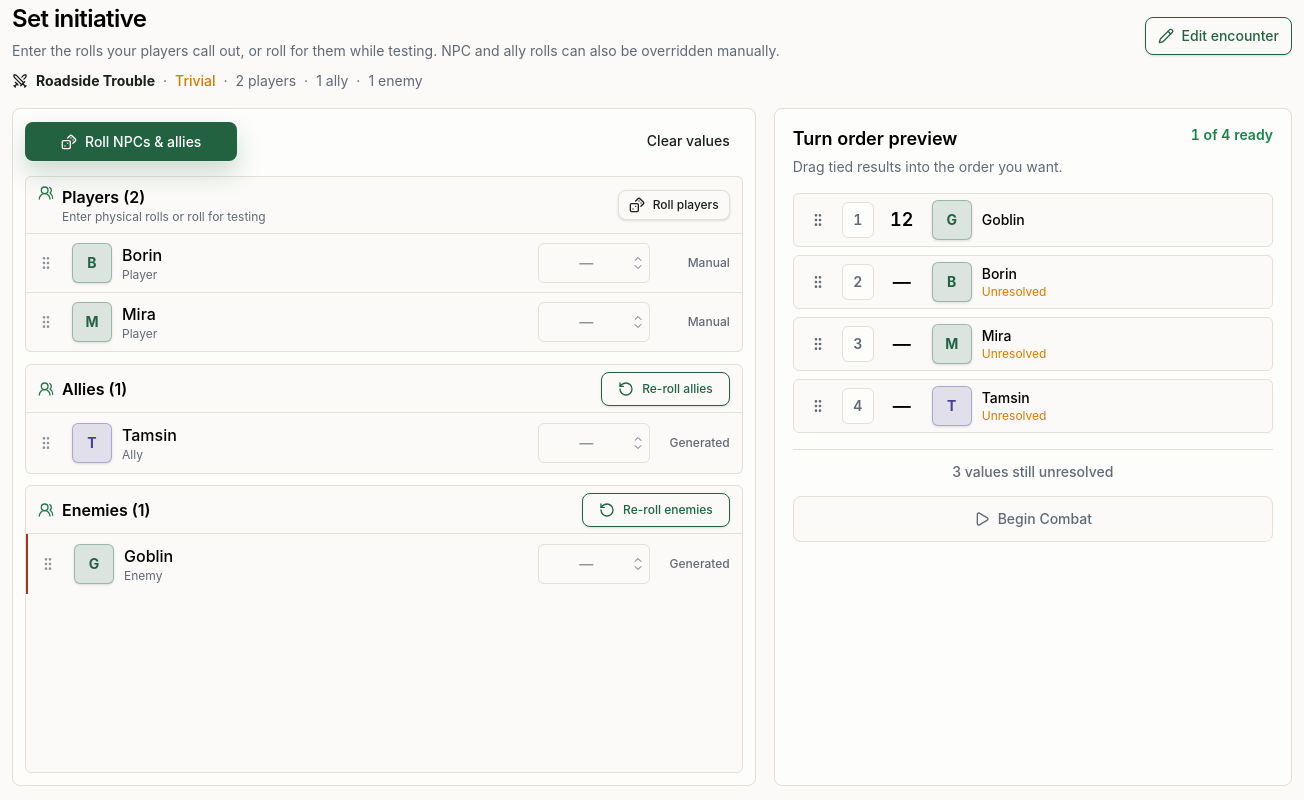
Scenario: EncounterInitiativePage › leaves empty input unresolved and disables begin until every value is ready
Clear the number field named "Borin initiative": (594, 263) [538,243,650,283]
Expected: the button "Begin Combat" is disabled, [793,496,1273,542]
Click the button "Roll NPCs & allies": click(131, 142) [25,122,237,161]
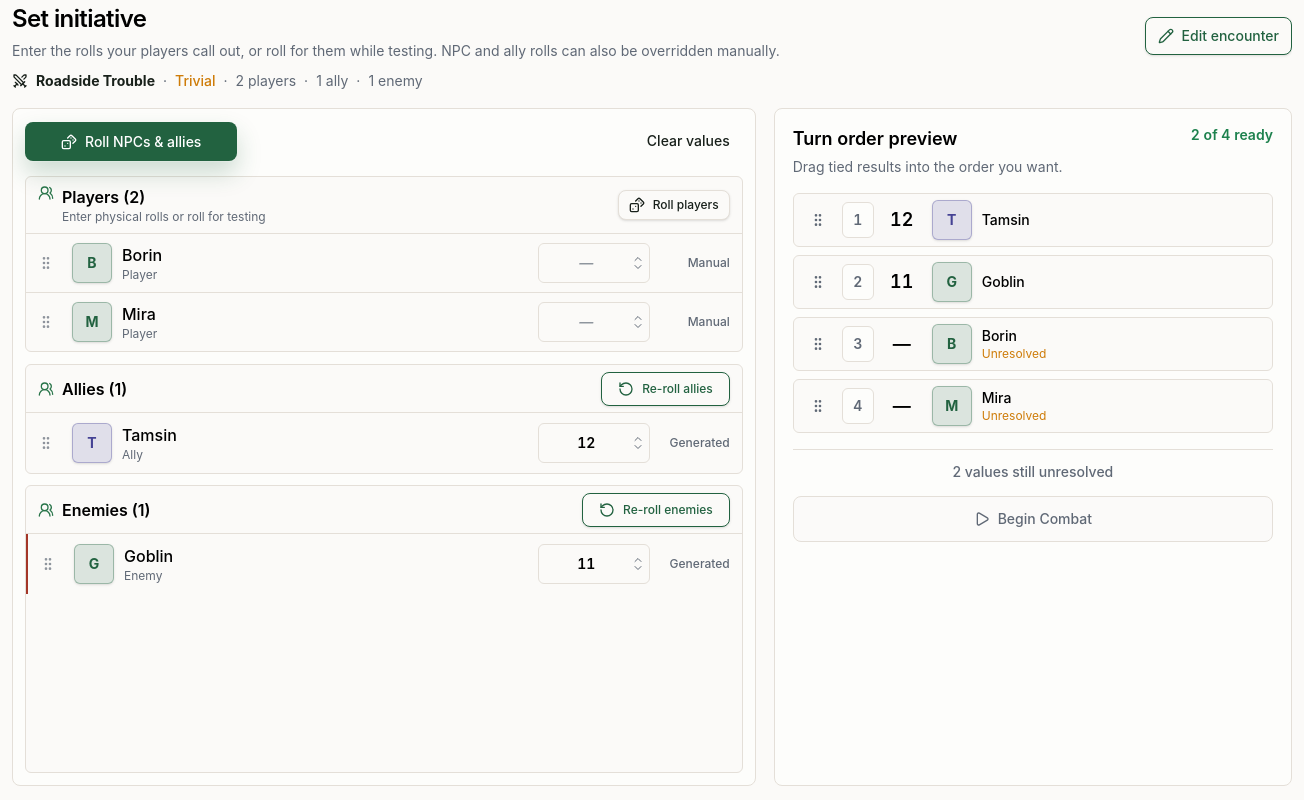
Now the number field named "Tamsin initiative" is not empty, box [538,423,650,463]
In the number field named "Borin initiative": (594, 263) [538,243,650,283], type "0"
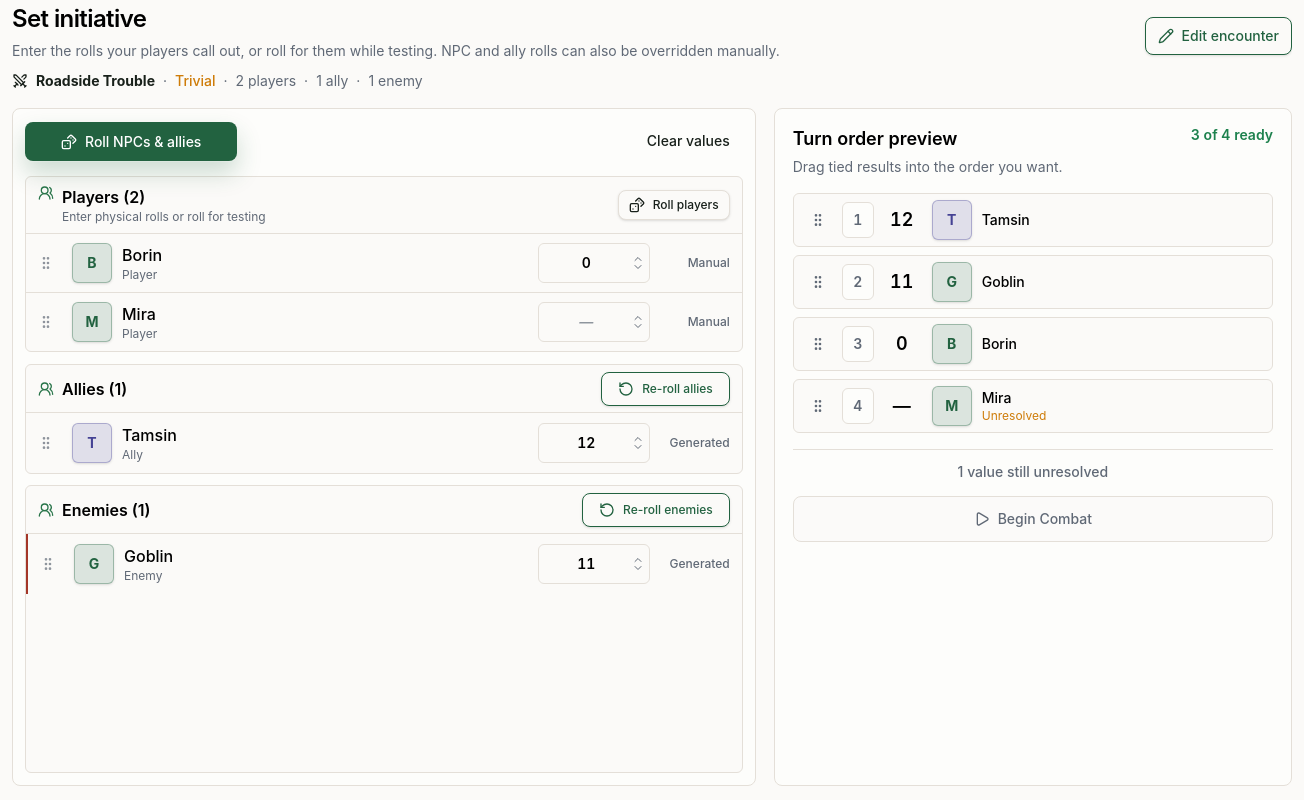
In the number field named "Mira initiative": (594, 322) [538,302,650,342], type "-2"
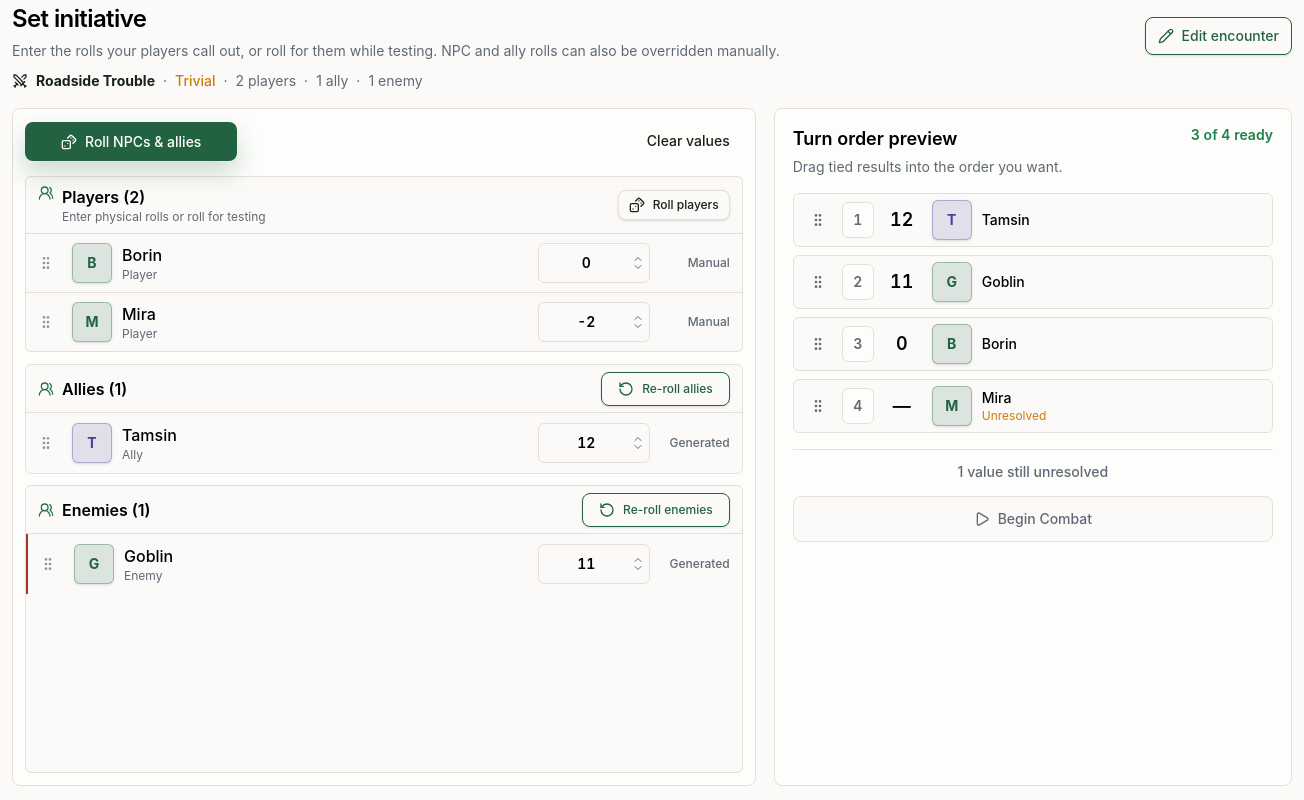
Leave the number field named "Mira initiative", box [538,302,650,342]
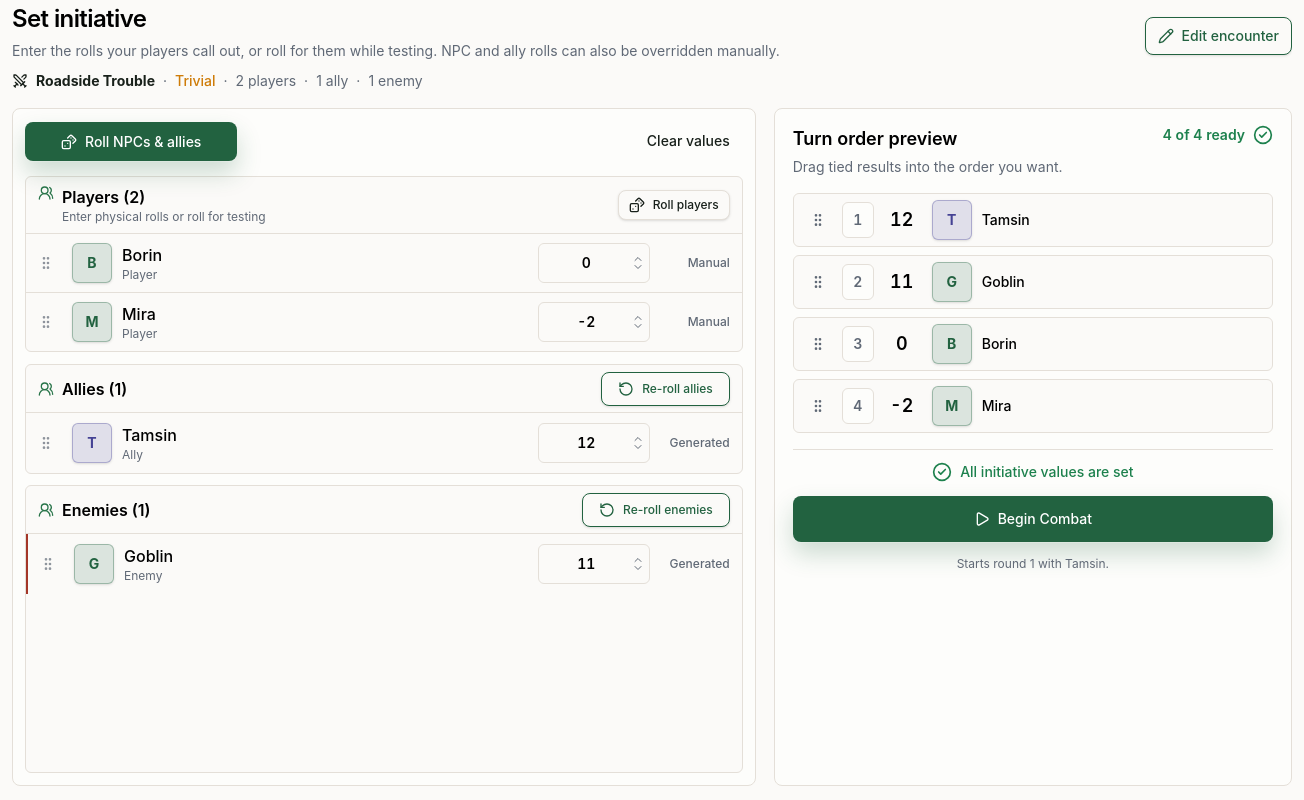
Now the button "Begin Combat" is enabled, box [793,496,1273,542]
